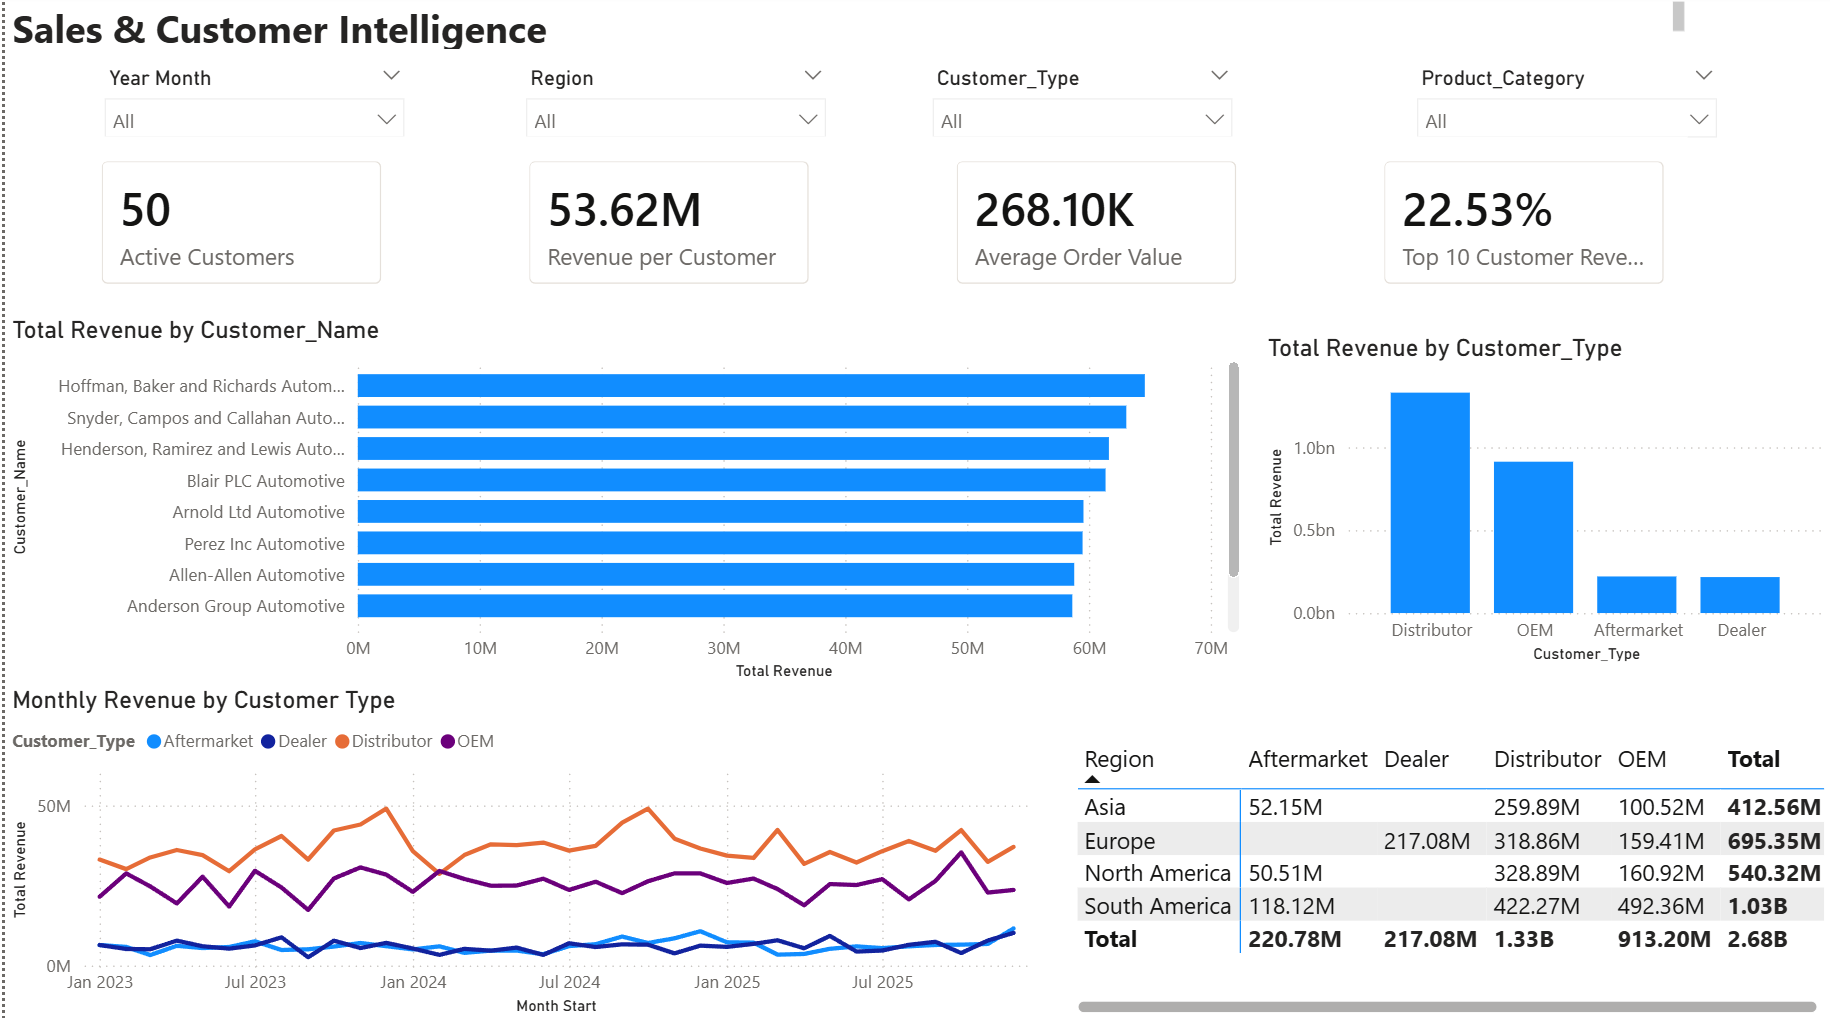

This screenshot's page, from the dashboard's own definition file:
{"tool":"powerbi","page":{"name":"Sales & Customer Intelligence","canvas":[1280,720],"ordinal":1},"visuals":[{"type":"clusteredBarChart","title":"Top 10 Customers by Revenue","fields":{"Category":["customers.Customer_Name"],"Y":["sales_orders.Total Revenue"]},"box":[0,225,870,260],"z":0},{"type":"columnChart","title":"Total Revenue by Customer Type","fields":{"Category":["customers.Customer_Type"],"Y":["sales_orders.Total Revenue"]},"box":[880,237.5,400,235],"z":1000},{"type":"pivotTable","fields":{"Columns":["customers.Customer_Type"],"Rows":["regions.Region"],"Values":["sales_orders.Revenue Display"]},"box":[746.2,518.8,533.8,201.2],"z":2000},{"type":"textbox","box":[0,0,1182.2,43.2],"z":3000},{"type":"slicer","fields":{"Values":["Calendar.Year Month"]},"box":[60,45,230,70],"z":4000},{"type":"slicer","fields":{"Values":["regions.Region"]},"box":[355,45,230,70],"z":5000},{"type":"slicer","fields":{"Values":["customers.Customer_Type"]},"box":[640,45,230,70],"z":6000},{"type":"slicer","fields":{"Values":["products.Product_Category"]},"box":[980,45,230,70],"z":7000},{"type":"cardVisual","fields":{"Data":["sales_orders.Active Customers"]},"box":[50,100,230,120],"z":8000},{"type":"cardVisual","fields":{"Data":["sales_orders.Revenue per Customer"]},"box":[350,100,230,120],"z":9000},{"type":"cardVisual","fields":{"Data":["sales_orders.Average Order Value"]},"box":[650,100,230,120],"z":10000},{"type":"cardVisual","fields":{"Data":["sales_orders.Top 10 Customer Revenue %"]},"box":[950,100,230,120],"z":11000},{"type":"lineChart","title":"Monthly Revenue by Customer Type","fields":{"Category":["Calendar.Month Start"],"Series":["customers.Customer_Type"],"Y":["sales_orders.Total Revenue"]},"box":[0,485,733.8,235],"z":12000}]}

Visuals, with their boxes in screenshot pixels (x1, y1, x2, y2), scaled from the page's 1280x720 canvas onto the 1830x1018 screenshot:
"Top 10 Customers by Revenue" clusteredBarChart: bbox=[0, 318, 1244, 686]
"Total Revenue by Customer Type" columnChart: bbox=[1258, 336, 1829, 668]
pivotTable - customers.Customer_Type x regions.Region: bbox=[1067, 734, 1829, 1017]
textbox: bbox=[0, 0, 1690, 61]
slicer - Calendar.Year Month: bbox=[86, 64, 415, 163]
slicer - regions.Region: bbox=[508, 64, 836, 163]
slicer - customers.Customer_Type: bbox=[915, 64, 1244, 163]
slicer - products.Product_Category: bbox=[1401, 64, 1730, 163]
cardVisual - sales_orders.Active Customers: bbox=[71, 141, 400, 311]
cardVisual - sales_orders.Revenue per Customer: bbox=[500, 141, 829, 311]
cardVisual - sales_orders.Average Order Value: bbox=[929, 141, 1258, 311]
cardVisual - sales_orders.Top 10 Customer Revenue %: bbox=[1358, 141, 1687, 311]
"Monthly Revenue by Customer Type" lineChart: bbox=[0, 686, 1049, 1017]
